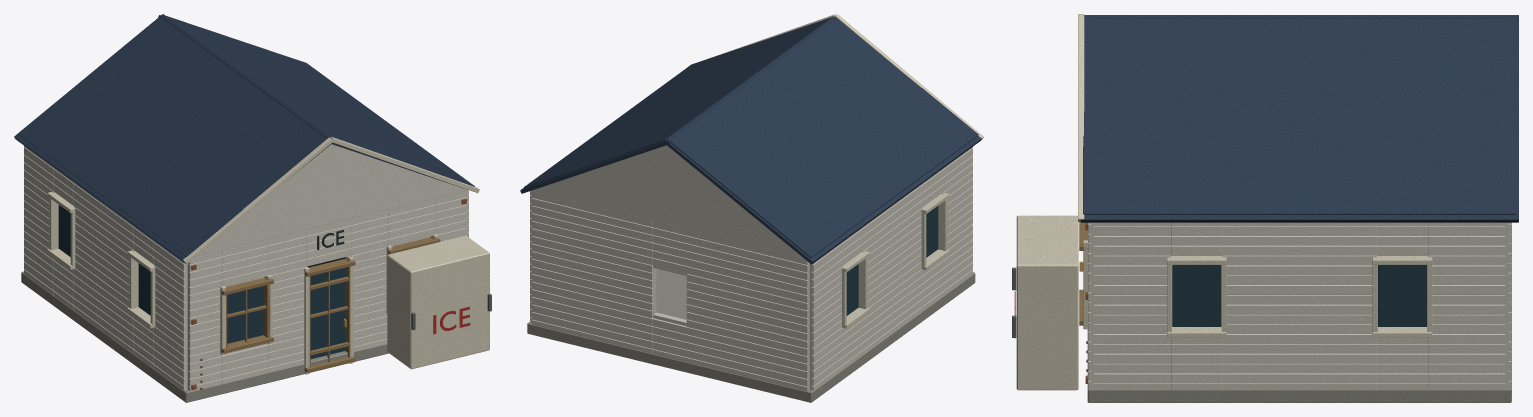
Rendered from SHOPICE2_lod0.glb.
3 renders of one model, left to right at view 1: azimuth 30°, elevation 25°; view 2: azimuth 150°, elevation 25°; view 3: azimuth 270°, elevation 25°, orthographic. The views are drawn at different scales.
Visible parts, largest first — view 1: SHOPICE2_LOD0; view 2: SHOPICE2_LOD0; view 3: SHOPICE2_LOD0.
Part boxes in pixels (x1=…): SHOPICE2_LOD0: x1=14, y1=14, x2=491, y2=402; SHOPICE2_LOD0: x1=520, y1=14, x2=983, y2=402; SHOPICE2_LOD0: x1=1012, y1=14, x2=1518, y2=402.
Size of the model in its own units: 8.51 by 6.41 by 9.85.
15 materials, 12 textured.
